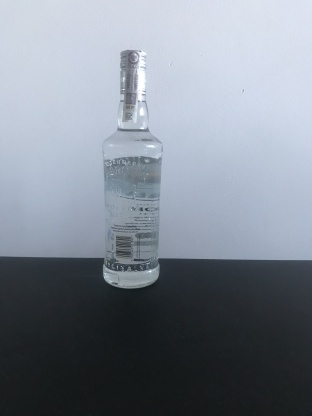nakretka: (117, 46, 149, 97)
